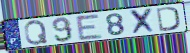8: (105, 13, 127, 36)
9: (51, 17, 74, 44)
D: (156, 6, 182, 33)
E: (74, 13, 105, 41)
Q: (23, 19, 49, 46)
X: (129, 7, 158, 36)
